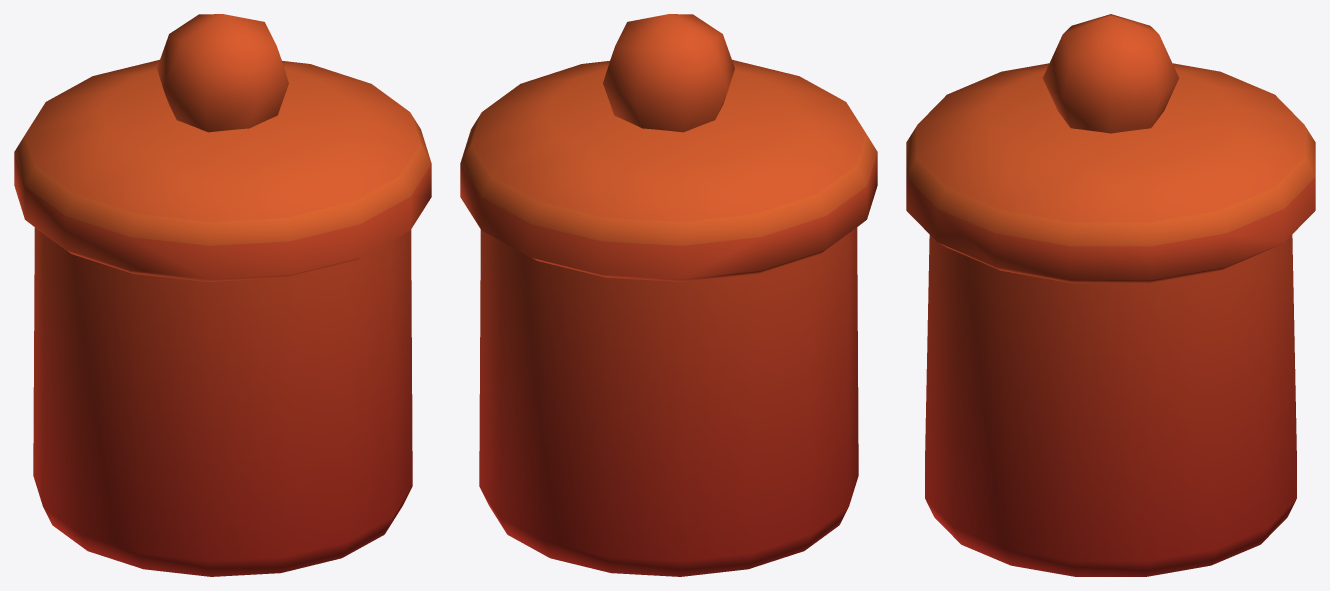
Rendered from Container Kitchen A-RmXOsLpzXc.glb.
The picture shows the model from 3 angles, left to right: view 1: azimuth 30°, elevation 25°; view 2: azimuth 150°, elevation 25°; view 3: azimuth 270°, elevation 25°; orthographic projection.
Parts seen in each view (by area): view 1: container_kitchen_A_red; view 2: container_kitchen_A_red; view 3: container_kitchen_A_red.
Boxes of the visible parts, box(x1,y1,x2,y2) form: container_kitchen_A_red: box(14, 14, 431, 576); container_kitchen_A_red: box(460, 14, 877, 576); container_kitchen_A_red: box(906, 14, 1315, 576).
Size of the model in its own units: 0.4 by 0.5329 by 0.4.
Materials: 1 (1 with a texture image).
